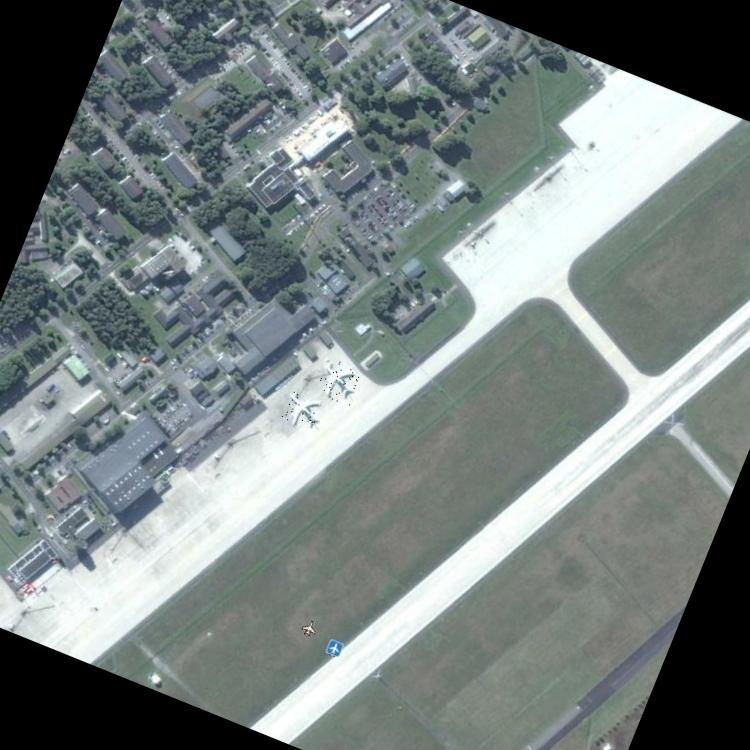A7: (314, 356, 364, 408), (280, 388, 328, 434)
